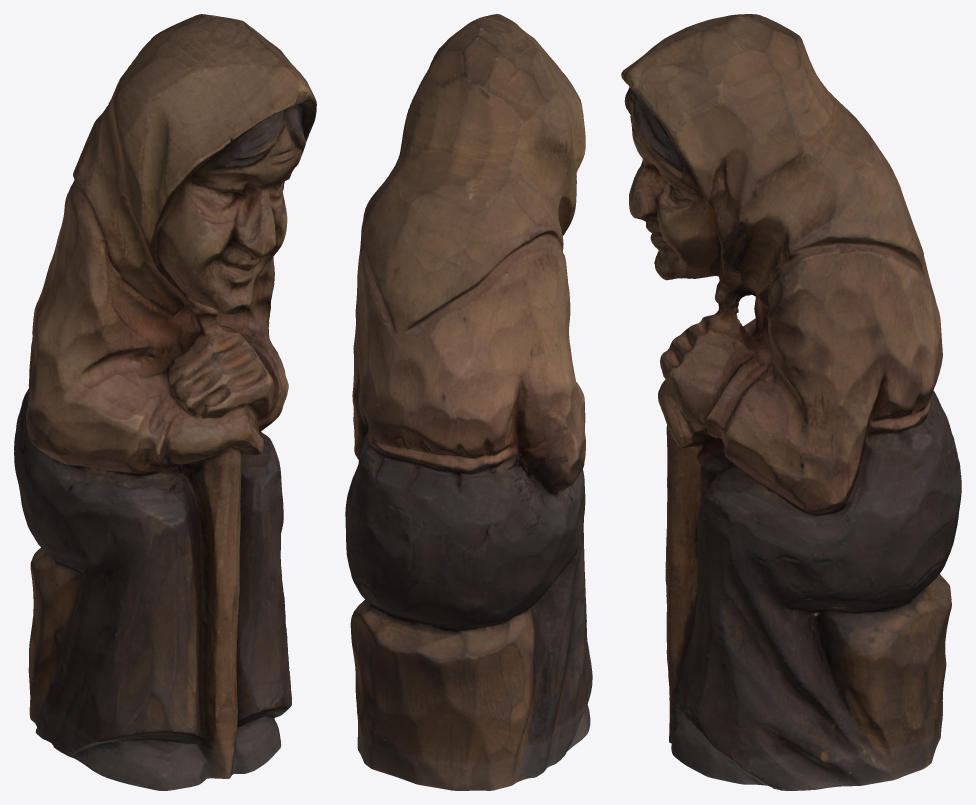
The model's file is MPL_W_E_1492_lowpoly.glb.
3 renders of one model, left to right at view 1: azimuth 30°, elevation 25°; view 2: azimuth 150°, elevation 25°; view 3: azimuth 270°, elevation 25°, orthographic. The views are drawn at different scales.
Parts seen in each view (by area): view 1: MPL_W_E_1492_lowpoly; view 2: MPL_W_E_1492_lowpoly; view 3: MPL_W_E_1492_lowpoly.
Boxes of the visible parts, x1,y1,x2,y2 form: MPL_W_E_1492_lowpoly: (14, 14, 316, 790); MPL_W_E_1492_lowpoly: (345, 14, 592, 790); MPL_W_E_1492_lowpoly: (621, 14, 961, 790).
Bounding box in the file's own units: 0.0862 × 0.2544 × 0.1067.
1 material, 1 textured.
